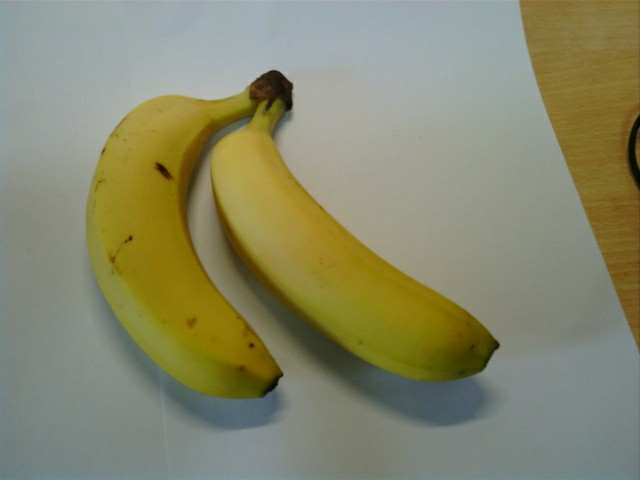fresh_banana: (215, 125, 499, 383)
normal_banana: (87, 94, 281, 398)
